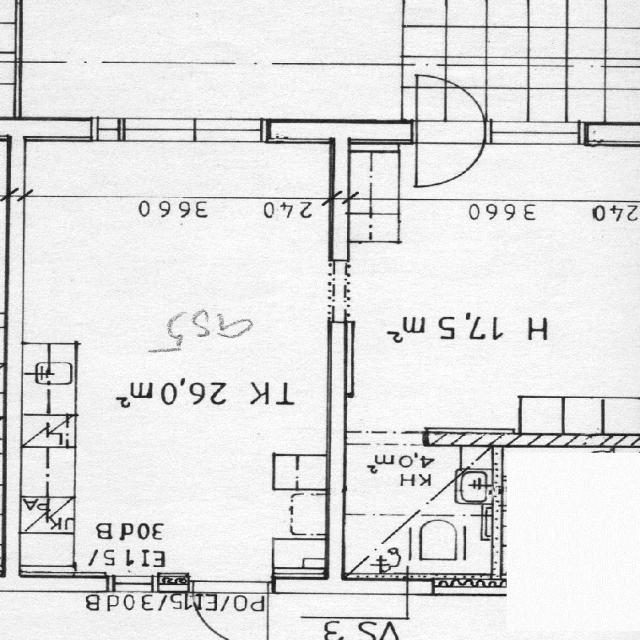door: (416, 119, 484, 194), (416, 68, 484, 143), (192, 581, 268, 640)
